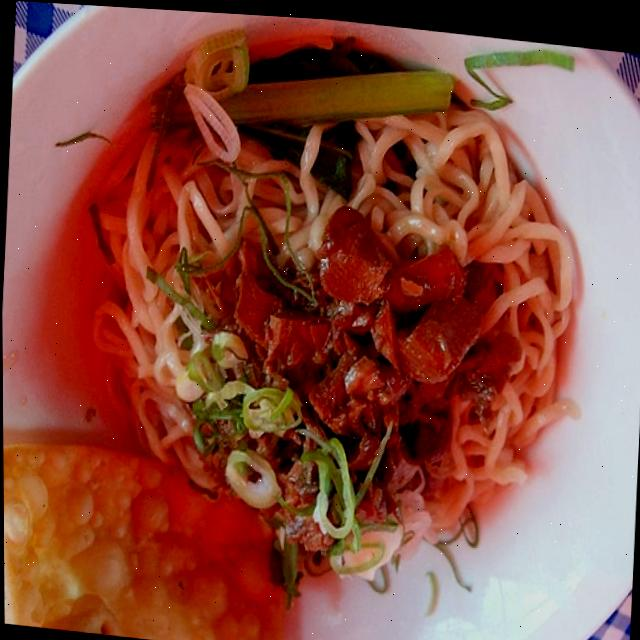面条主食: (8, 0, 623, 640)
